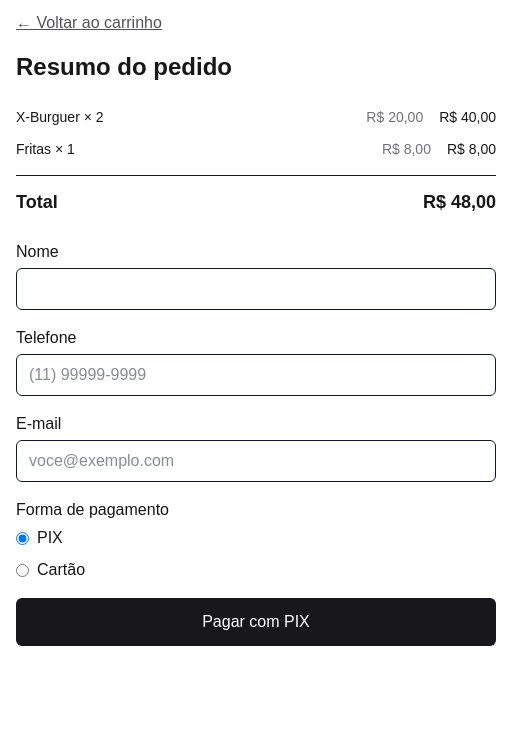
Test: CheckoutPage › button label changes to "Ir para o pagamento" when Cartão selected
The width and height of the screenshot is (513, 749).
Click the radio button labelled "Cartão" at (22, 570), box [16,564,29,576]
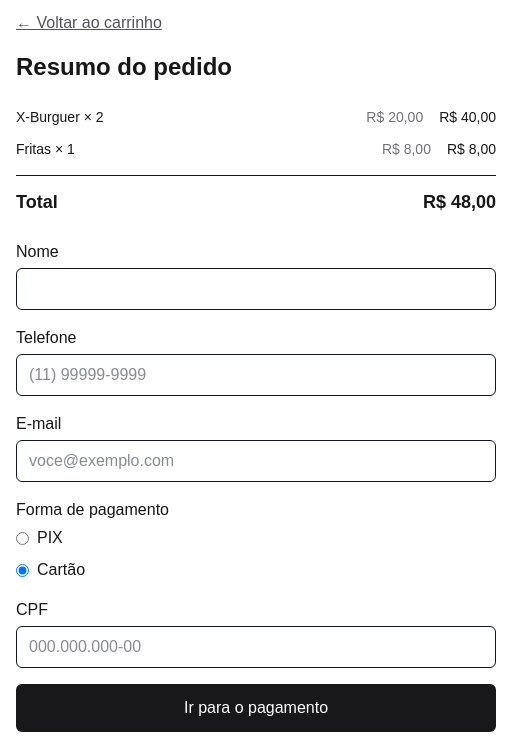
expect the button "Ir para o pagamento" is shown: met, box [16,684,496,732]
